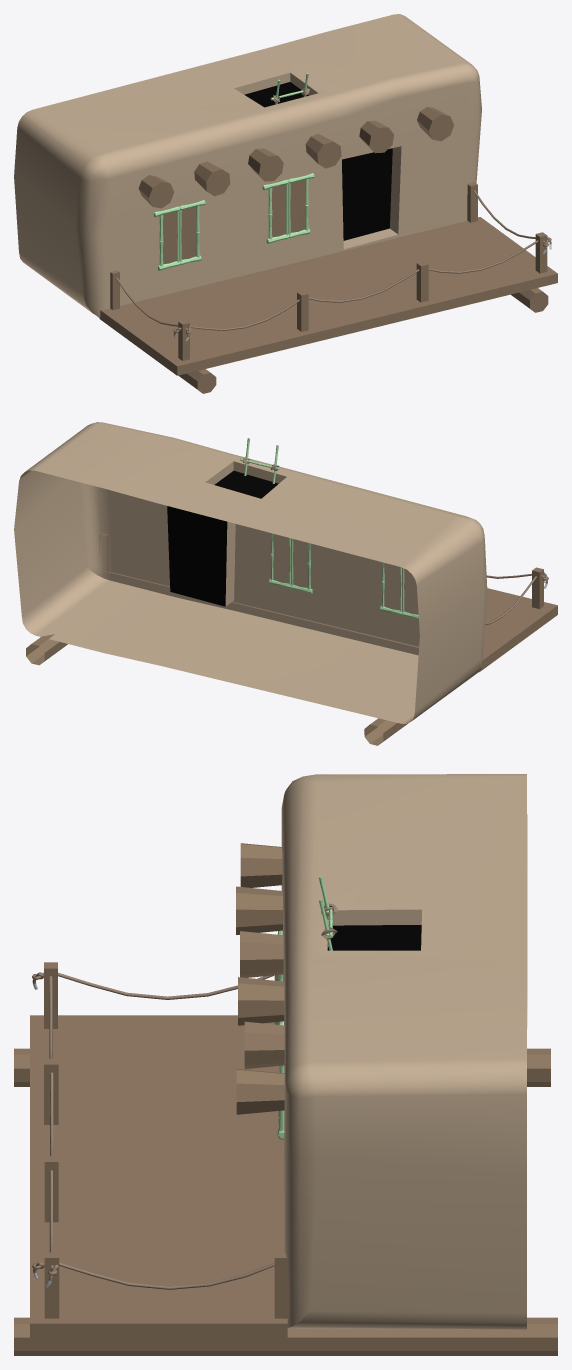
File: pueblo_home_02.fbx
3 views of the same model, one above another, from view 1: azimuth 30°, elevation 25°; view 2: azimuth 150°, elevation 25°; view 3: azimuth 270°, elevation 25° (orthographic). The views are drawn at different scales.
Parts seen in each view (by area): view 1: pueblo_house_02; view 2: pueblo_house_02; view 3: pueblo_house_02.
Boxes of the visible parts, x1,y1,x2,y2 form: pueblo_house_02: (14,14,557,393); pueblo_house_02: (14,422,557,745); pueblo_house_02: (14,774,557,1355).
Bounding box in the file's own units: 1224 × 598 × 865.
